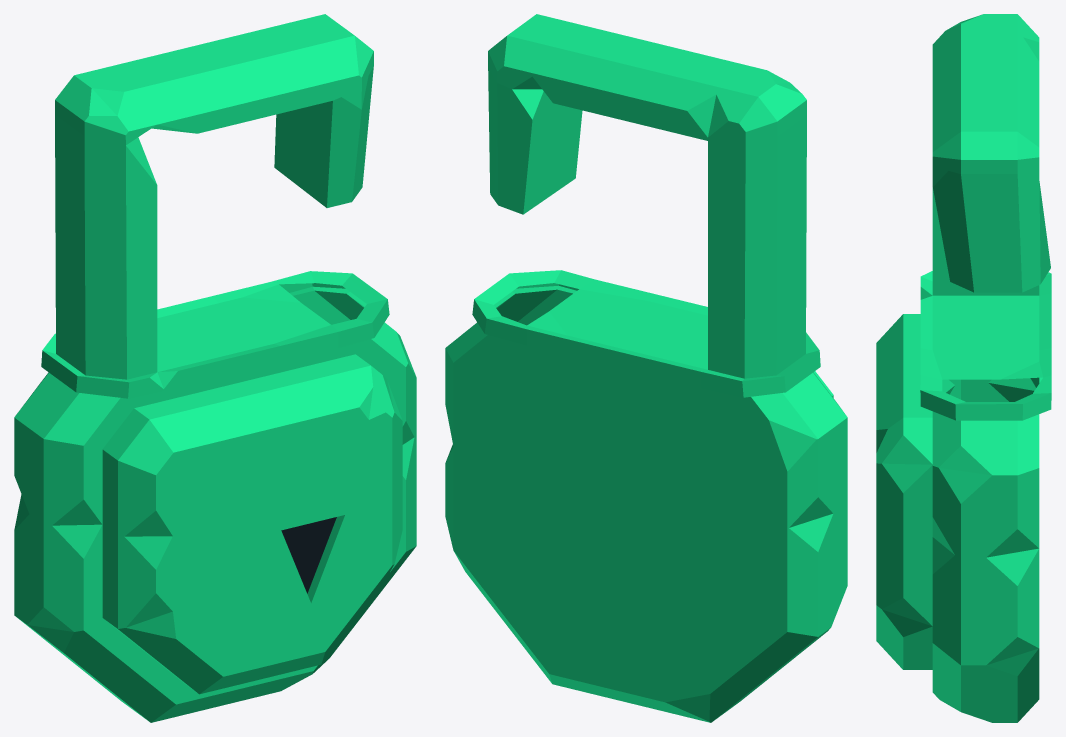
The model's file is green_unlock.glb.
3 renders of one model, left to right at view 1: azimuth 30°, elevation 25°; view 2: azimuth 150°, elevation 25°; view 3: azimuth 270°, elevation 25°, orthographic. The views are drawn at different scales.
Parts seen in each view (by area): view 1: Circle.017; view 2: Circle.017; view 3: Circle.017.
Part boxes in pixels (x1=…): Circle.017: x1=14, y1=14, x2=416, y2=722; Circle.017: x1=445, y1=14, x2=847, y2=722; Circle.017: x1=876, y1=14, x2=1051, y2=722.
Bounding box in the file's own units: 2 × 3.27 × 0.8475.
Materials: 1 (1 with a texture image).
